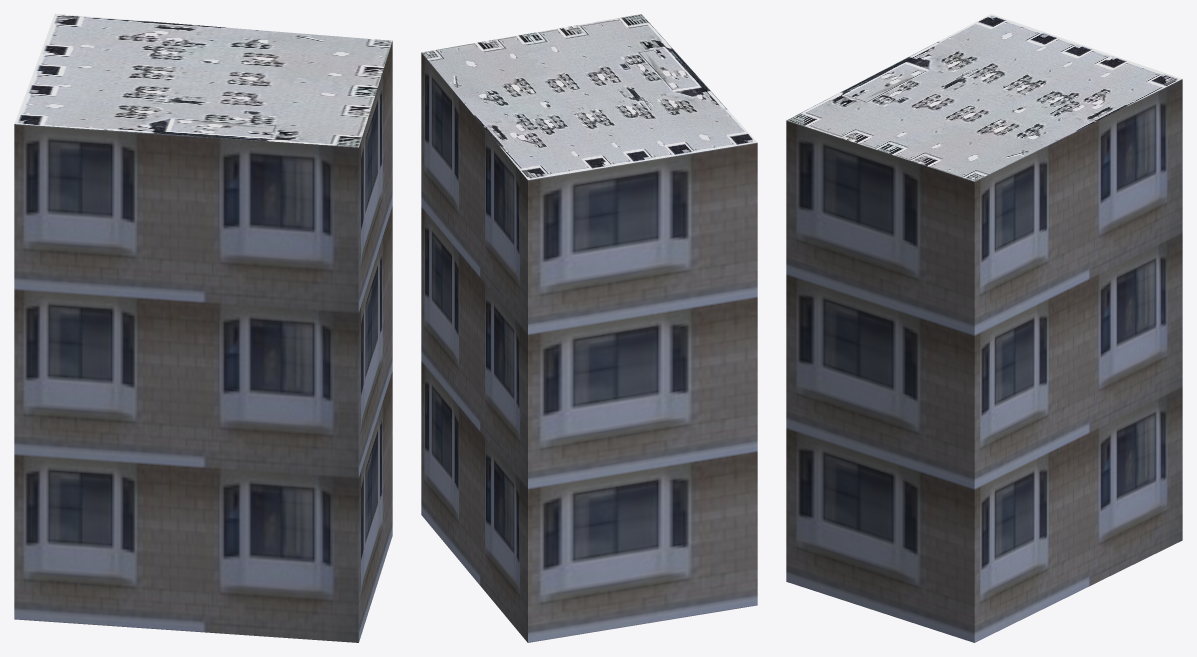
Rendered from ResTex__2153.fbx.
3 renders of one model, left to right at view 1: azimuth 30°, elevation 25°; view 2: azimuth 150°, elevation 25°; view 3: azimuth 270°, elevation 25°, orthographic. The views are drawn at different scales.
Parts seen in each view (by area): view 1: CityEngineMaterial_3_m, CityEngineMaterial_8_m; view 2: CityEngineMaterial_3_m, CityEngineMaterial_8_m; view 3: CityEngineMaterial_3_m, CityEngineMaterial_8_m.
Part boxes in pixels (<box>): CityEngineMaterial_3_m: <box>14,41,392,642</box>; CityEngineMaterial_8_m: <box>14,14,392,147</box>; CityEngineMaterial_3_m: <box>421,52,757,642</box>; CityEngineMaterial_8_m: <box>422,14,756,179</box>; CityEngineMaterial_3_m: <box>786,79,1182,642</box>; CityEngineMaterial_8_m: <box>786,14,1182,181</box>.
Bounding box in the file's own units: 7.01 × 9 × 7.01.
Materials: 2 (2 with a texture image).
